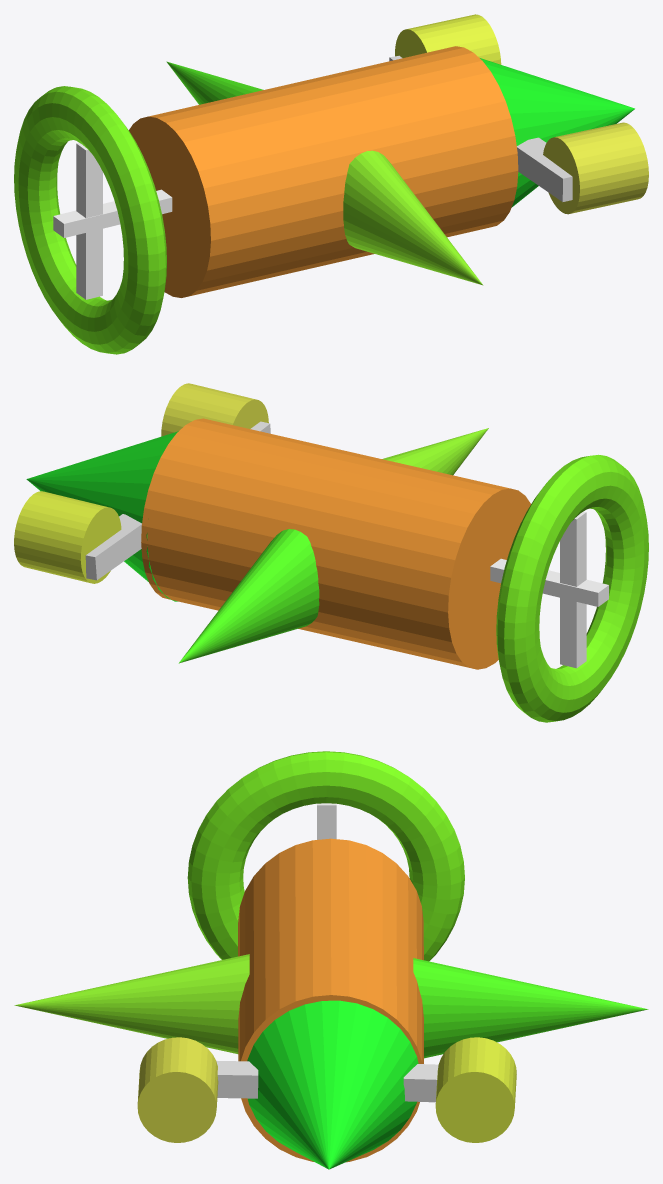
The model's file is attacker.gltf.
The picture shows the model from 3 angles, top to bottom: view 1: azimuth 30°, elevation 25°; view 2: azimuth 150°, elevation 25°; view 3: azimuth 270°, elevation 25°; orthographic projection.
Visible parts, largest first — view 1: Cylinder, Torus_001, Cone_001, Cylinder.002, Cone, Cube_001, Cylinder.001, Cube.002, Cone_002, Cube.001; view 2: Cylinder, Torus_001, Cone_002, Cylinder.001, Cone, Cube_001, Cylinder.002, Cone_001, Cube, Cube.001; view 3: Cylinder, Torus_001, Cone, Cone_001, Cone_002, Cylinder.001, Cylinder.002, Cube.002, Cube, Cube_001.
Boxes of the visible parts, x1,y1,x2,y2 form: Cylinder: (129,46,518,297); Torus_001: (14,86,166,354); Cone_001: (343,150,483,285); Cylinder.002: (543,122,648,214); Cone: (480,58,634,207); Cube_001: (76,142,102,299); Cylinder.001: (395,14,501,64); Cube.002: (517,137,572,201); Cone_002: (166,61,263,104); Cube.001: (53,189,172,237); Cylinder: (141,418,530,669); Torus_001: (496,454,648,722); Cone_002: (178,529,319,663); Cylinder.001: (14,491,121,583); Cone: (26,431,178,601); Cube_001: (560,511,586,668); Cylinder.002: (161,383,268,436); Cone_001: (382,428,488,475); Cube: (85,514,141,580); Cube.001: (490,558,608,606); Cylinder: (238,838,423,1162); Torus_001: (187,751,464,961); Cone: (247,1000,418,1169); Cone_001: (14,954,249,1053); Cone_002: (413,958,648,1058); Cylinder.001: (435,1037,516,1142); Cylinder.002: (137,1037,218,1142); Cube.002: (216,1060,258,1098); Cube: (403,1064,438,1102); Cube_001: (317,803,336,839).
Size of the model in its own units: 6.8 by 2.8 by 6.41.
